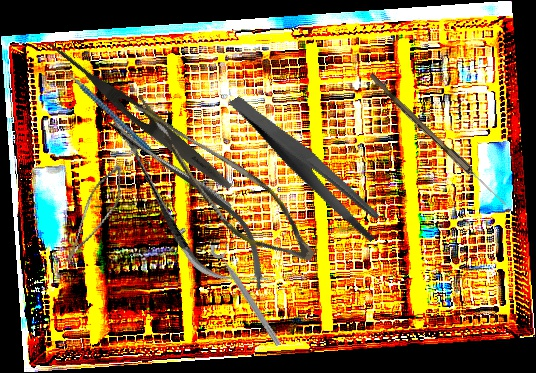Chopper: (51, 44, 152, 173)
Dressing Forceps: (228, 66, 389, 267), (39, 35, 237, 195)
Fixation Ring: (207, 237, 291, 349)
Micro Scissor: (86, 94, 287, 313), (99, 92, 339, 275), (62, 158, 129, 275)
Surgical Spoon: (366, 73, 510, 208)
